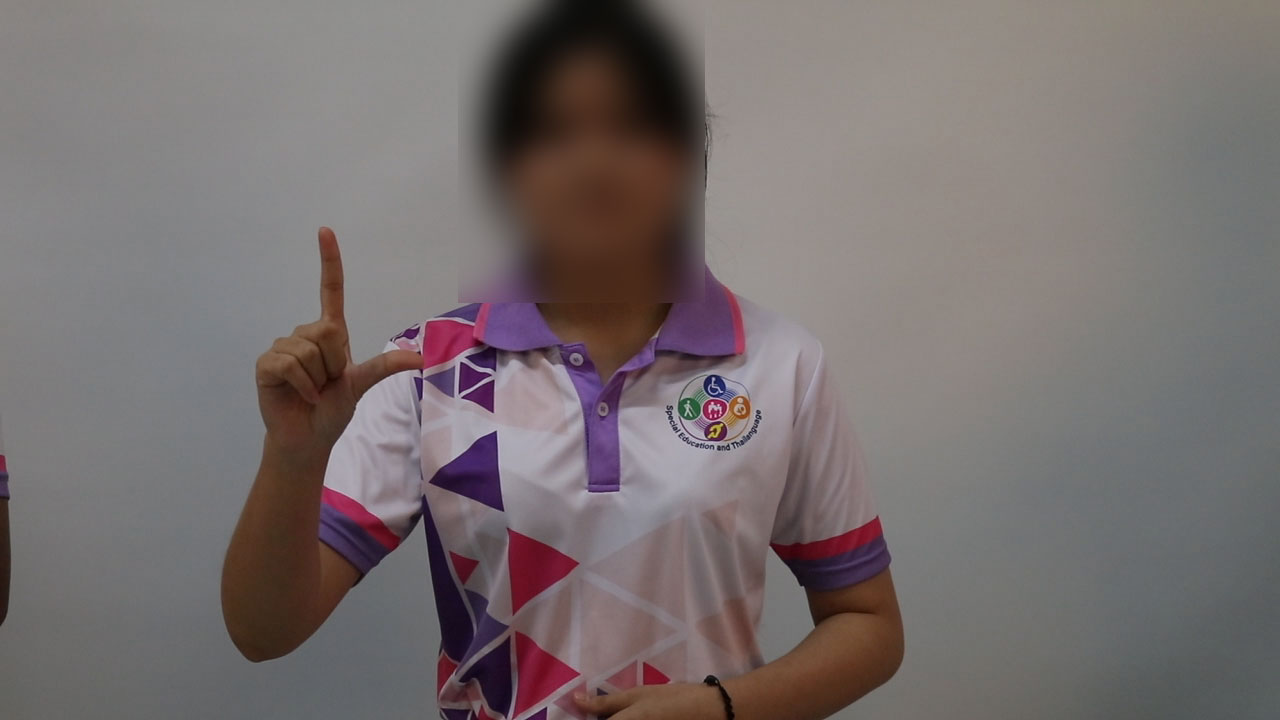lor: (235, 216, 435, 460)
